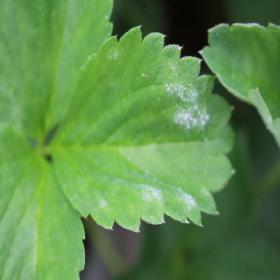Powdery Mildew Leaf: (47, 24, 238, 233), (198, 21, 279, 145)
